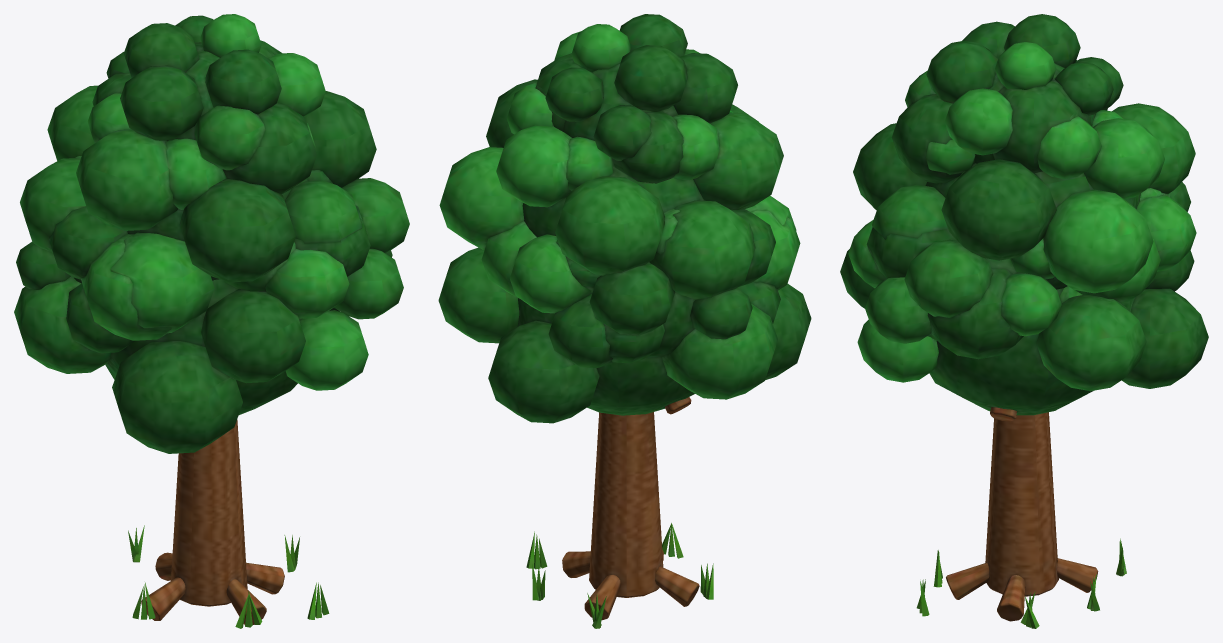
File: cinnamon_tree.glb
The picture shows the model from 3 angles, left to right: view 1: azimuth 30°, elevation 25°; view 2: azimuth 150°, elevation 25°; view 3: azimuth 270°, elevation 25°; orthographic projection. The views are drawn at different scales.
Parts seen in each view (by area): view 1: crown, cinnamon_tree; view 2: crown, cinnamon_tree; view 3: crown, cinnamon_tree.
Boxes of the visible parts, x1,y1,x2,y2 form: crown: [14, 14, 409, 453]; cinnamon_tree: [128, 419, 329, 628]; crown: [438, 14, 811, 423]; cinnamon_tree: [526, 397, 713, 628]; crown: [840, 14, 1208, 415]; cinnamon_tree: [916, 407, 1126, 628].
Size of the model in its own units: 0.8796 by 1.48 by 0.8849.
1 material, 1 textured.
